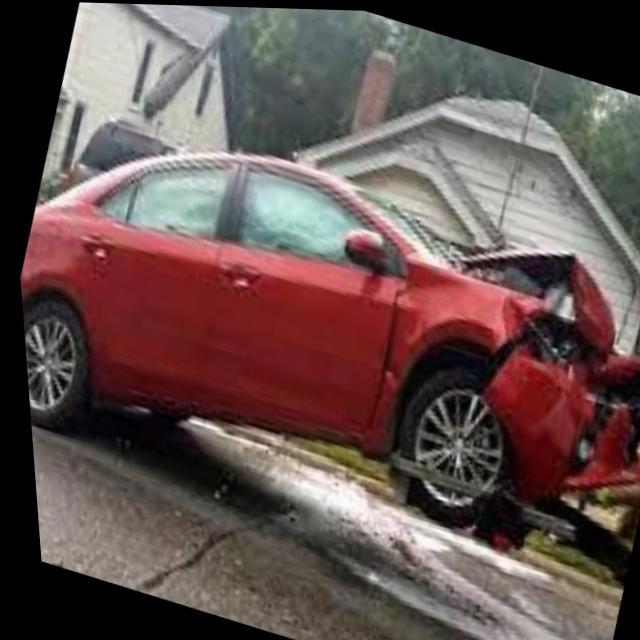dislocated part: (361, 245, 640, 498)
